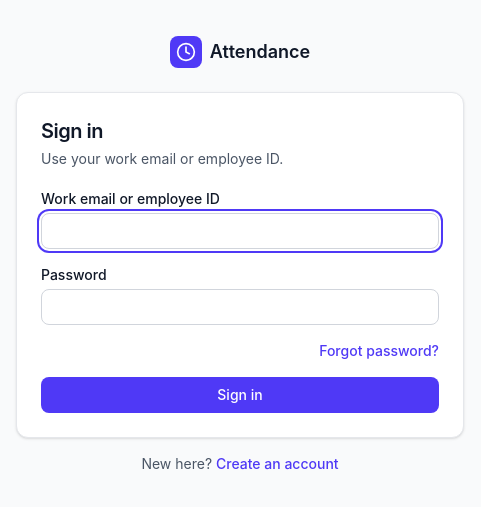
Test: LoginPage › validates required fields
This screenshot has width=481, height=507.
Click the button "Sign in". click: (240, 395)
box: [41,377,439,413]
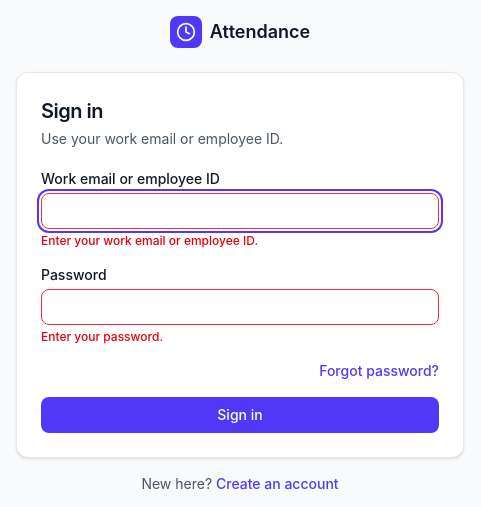
Expected: the text "Enter your work email or employee ID." is shown, [41,233,258,248]
Expected: the text "Enter your password." is shown, [41,329,163,344]
